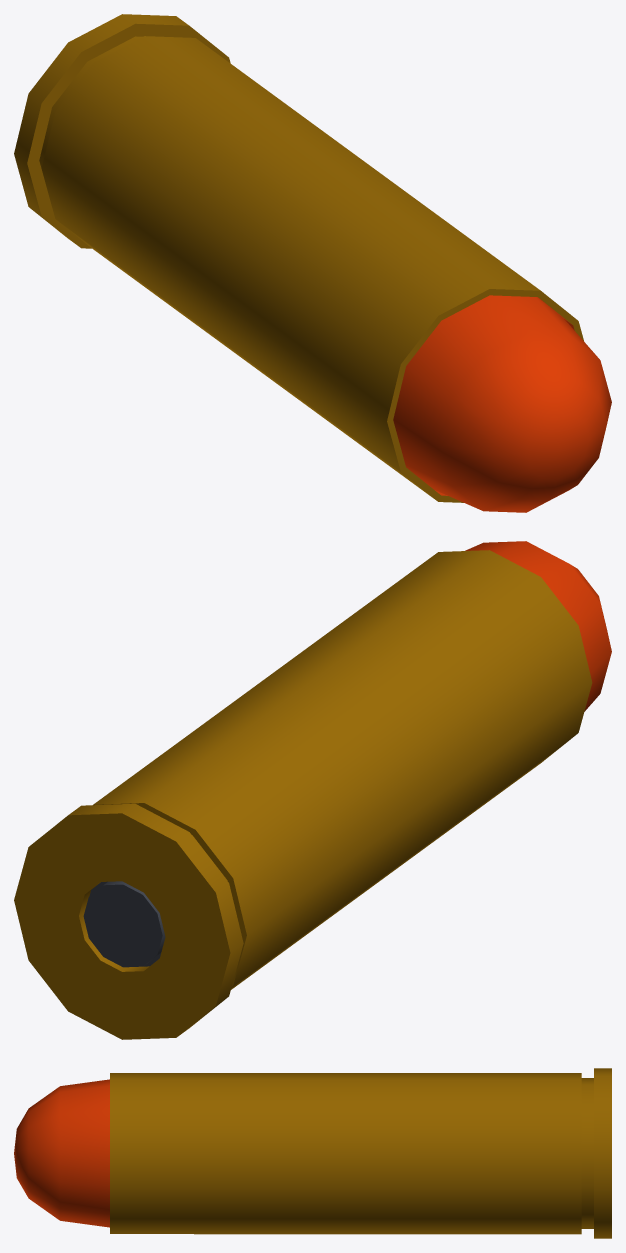
The model's file is bullet_whole.fbx.
3 renders of one model, top to bottom at view 1: azimuth 30°, elevation 25°; view 2: azimuth 150°, elevation 25°; view 3: azimuth 270°, elevation 25°, orthographic. The views are drawn at different scales.
Visible parts, largest first — view 1: bullet; view 2: bullet; view 3: bullet.
Boxes of the visible parts, x1,y1,x2,y2 form: bullet: [14, 14, 611, 512]; bullet: [14, 541, 611, 1039]; bullet: [14, 1068, 611, 1238].
Bounding box in the file's own units: 0.5208 × 0.5208 × 1.82.
